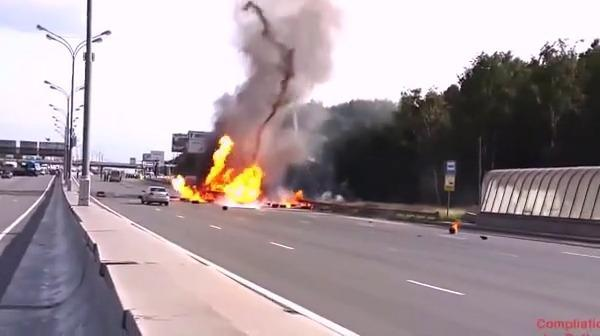fire: (167, 133, 312, 212), (451, 218, 461, 234)
